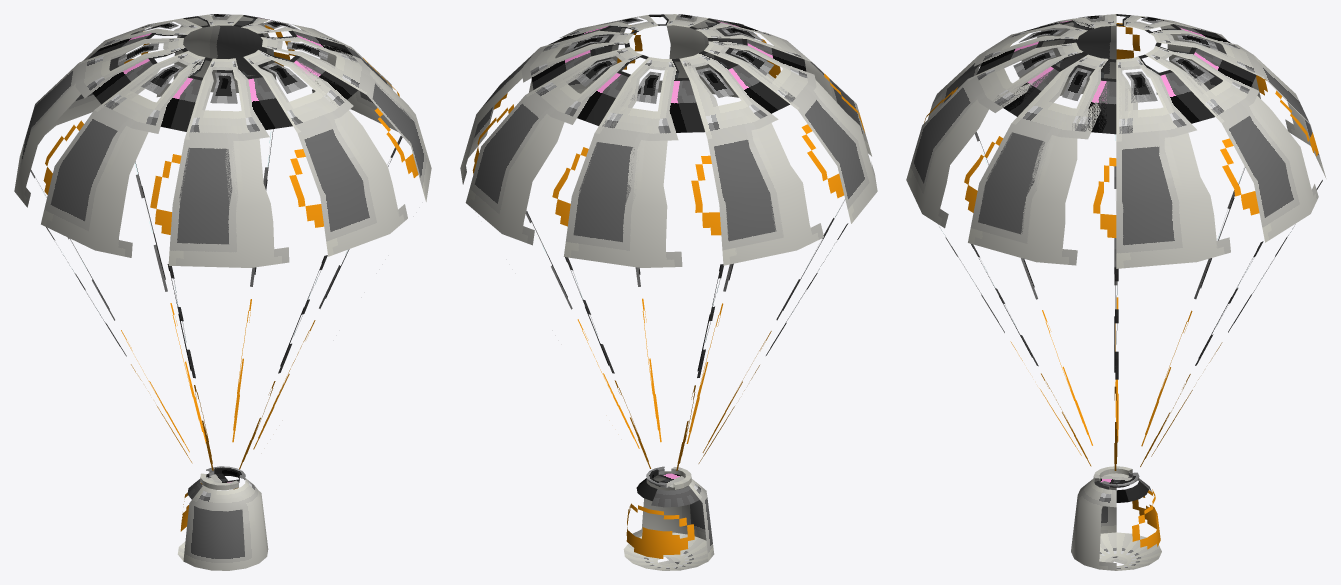
The model's file is soyuz_capsule_item.obj.
3 renders of one model, left to right at view 1: azimuth 30°, elevation 25°; view 2: azimuth 150°, elevation 25°; view 3: azimuth 270°, elevation 25°, orthographic.
Visible parts, largest first — view 1: Chute, Capsule; view 2: Chute, Capsule; view 3: Chute, Capsule.
Part boxes in pixels (x1,y1,x2,y2): Chute: (14,14,431,470); Capsule: (177,466,268,570); Chute: (460,14,877,470); Capsule: (623,466,714,570); Chute: (906,14,1326,470); Capsule: (1071,466,1161,570).
Bounding box in the file's own units: 10 × 13.61 × 10.
